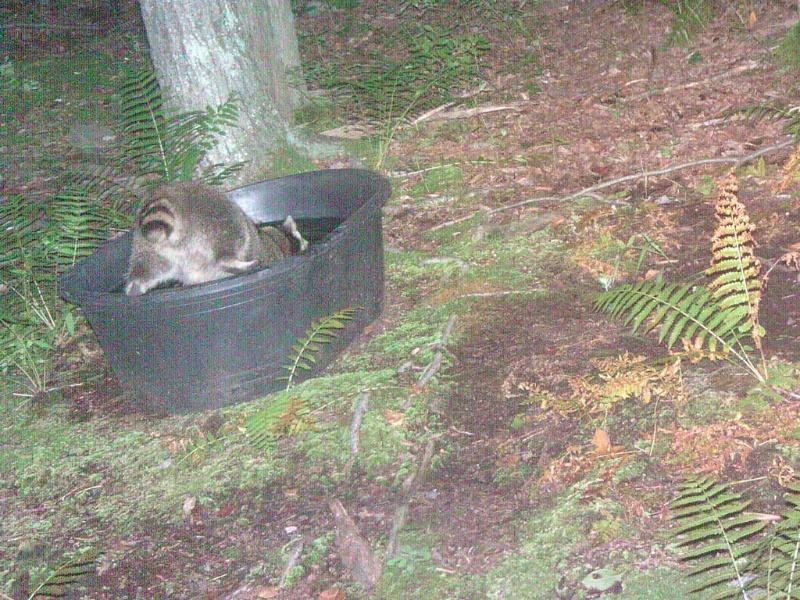raccoon: (125, 180, 309, 308)
